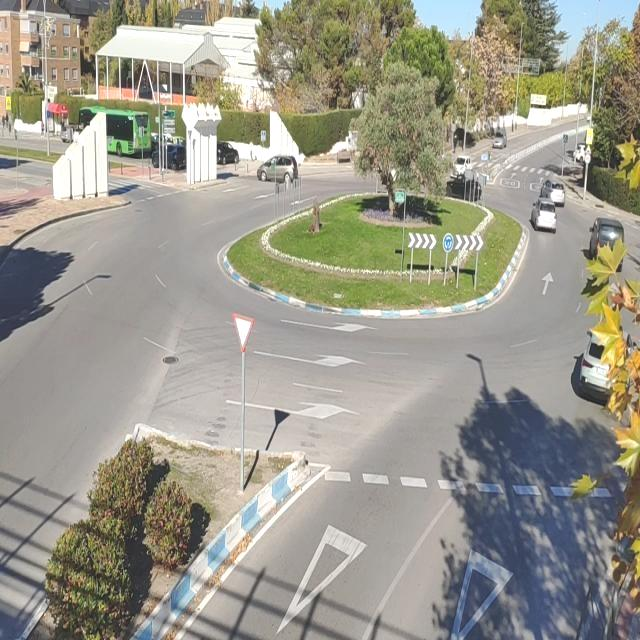Bus: (67, 102, 154, 156)
Car: (571, 320, 639, 398), (586, 212, 626, 270), (252, 154, 306, 183), (535, 176, 575, 209), (152, 140, 192, 170), (530, 194, 558, 236), (444, 176, 484, 204), (213, 138, 244, 169), (448, 125, 480, 148), (491, 126, 506, 153)
Van: (449, 148, 477, 178)
